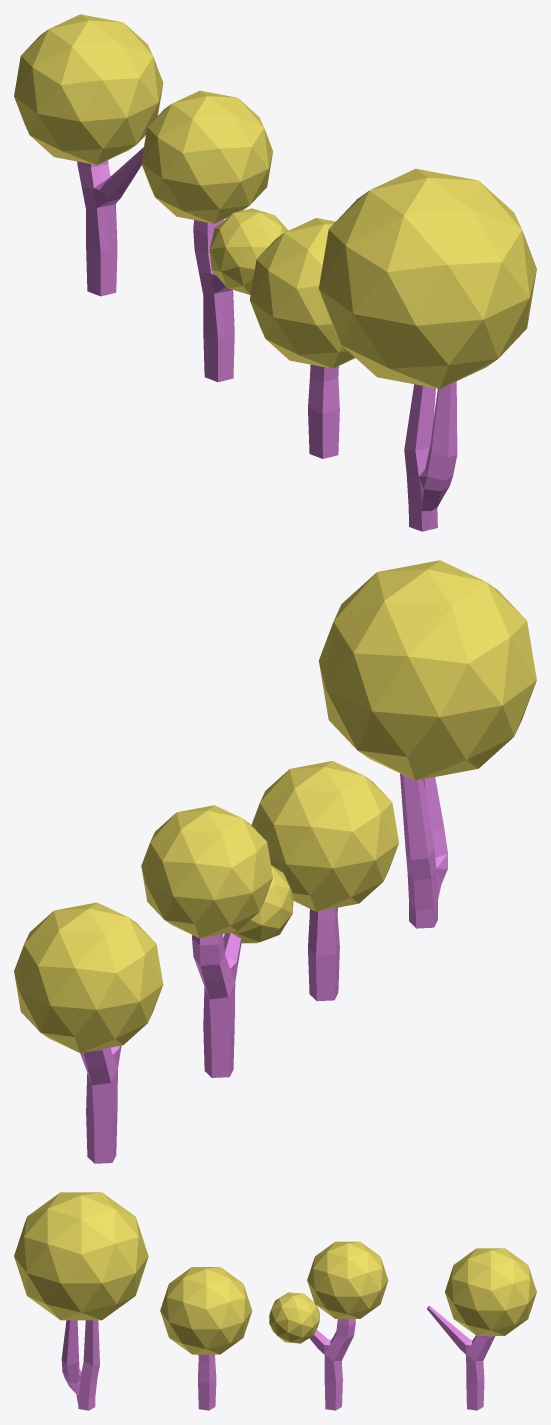
Rendered from Alien_treeblend.fbx.
3 views of the same model, one above another, from view 1: azimuth 30°, elevation 25°; view 2: azimuth 150°, elevation 25°; view 3: azimuth 270°, elevation 25° (orthographic). The views are drawn at different scales.
Parts seen in each view (by area): view 1: Tree, Tree_4, Tree_3, Tree_2; view 2: Tree, Tree_4, Tree_3, Tree_2; view 3: Tree, Tree_3, Tree_4, Tree_2.
Boxes of the visible parts, box(x1,y1,x2,y2) form: Tree: box(319, 168, 536, 531); Tree_4: box(14, 14, 163, 296); Tree_3: box(141, 90, 288, 382); Tree_2: box(250, 218, 355, 458); Tree: box(318, 560, 536, 928); Tree_4: box(14, 902, 163, 1163); Tree_3: box(141, 805, 293, 1077); Tree_2: box(251, 761, 398, 1001); Tree: box(14, 1192, 148, 1410); Tree_3: box(269, 1241, 388, 1410); Tree_4: box(427, 1248, 536, 1410); Tree_2: box(160, 1267, 252, 1410).
Bounding box in the file's own units: 278 × 507 × 1135.
